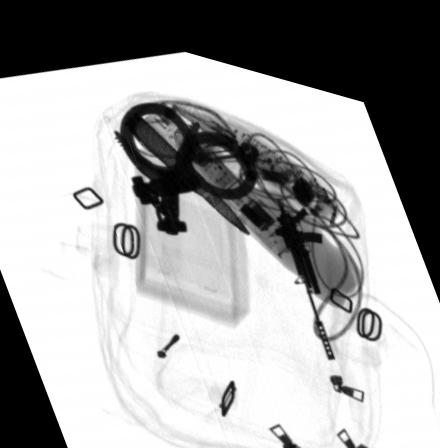Baton: (142, 92, 351, 291)
Bullet: (123, 104, 253, 227)
Gun: (274, 182, 335, 343)
HandCuffs: (113, 93, 260, 227)
